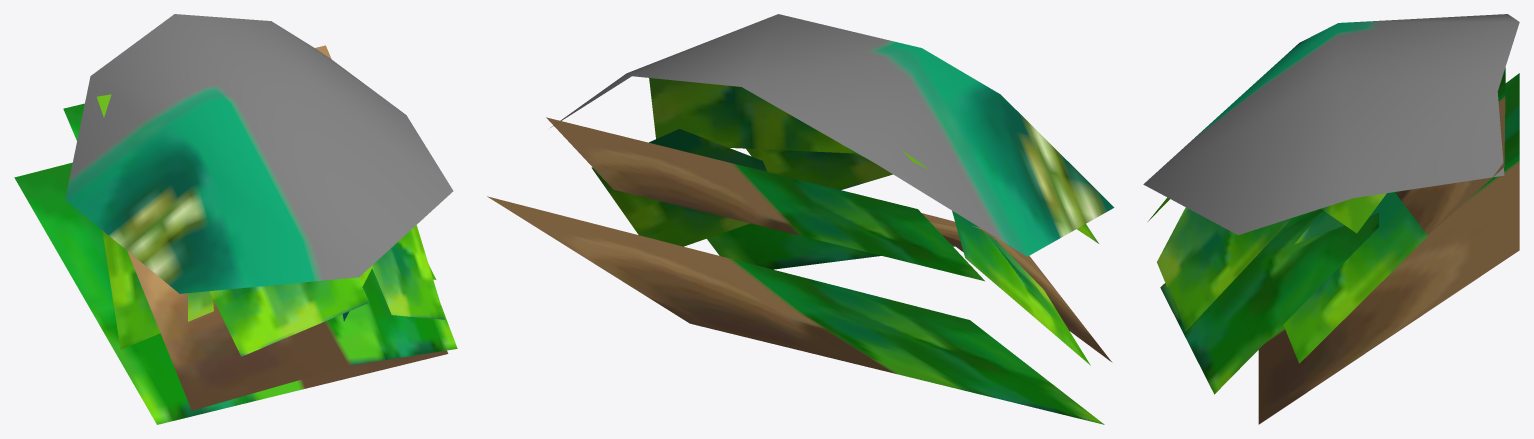
The model's file is fg_bushB_2_s.dae.
3 renders of one model, left to right at view 1: azimuth 30°, elevation 25°; view 2: azimuth 150°, elevation 25°; view 3: azimuth 270°, elevation 25°, orthographic. The views are drawn at different scales.
Visible parts, largest first — view 1: fg_bushB_2_s; view 2: fg_bushB_2_s; view 3: fg_bushB_2_s.
Boxes of the visible parts, x1,y1,x2,y2 form: fg_bushB_2_s: [14, 14, 457, 424]; fg_bushB_2_s: [487, 14, 1114, 424]; fg_bushB_2_s: [1143, 14, 1519, 424].
Size of the model in its own units: 43.24 by 35.41 by 37.79.
1 material, 1 textured.
